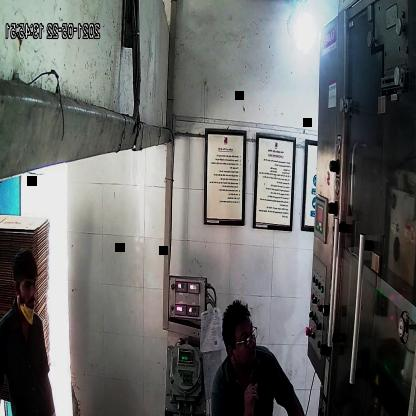goggles: (229, 325, 259, 348)
no_goggles: (17, 278, 38, 298)
